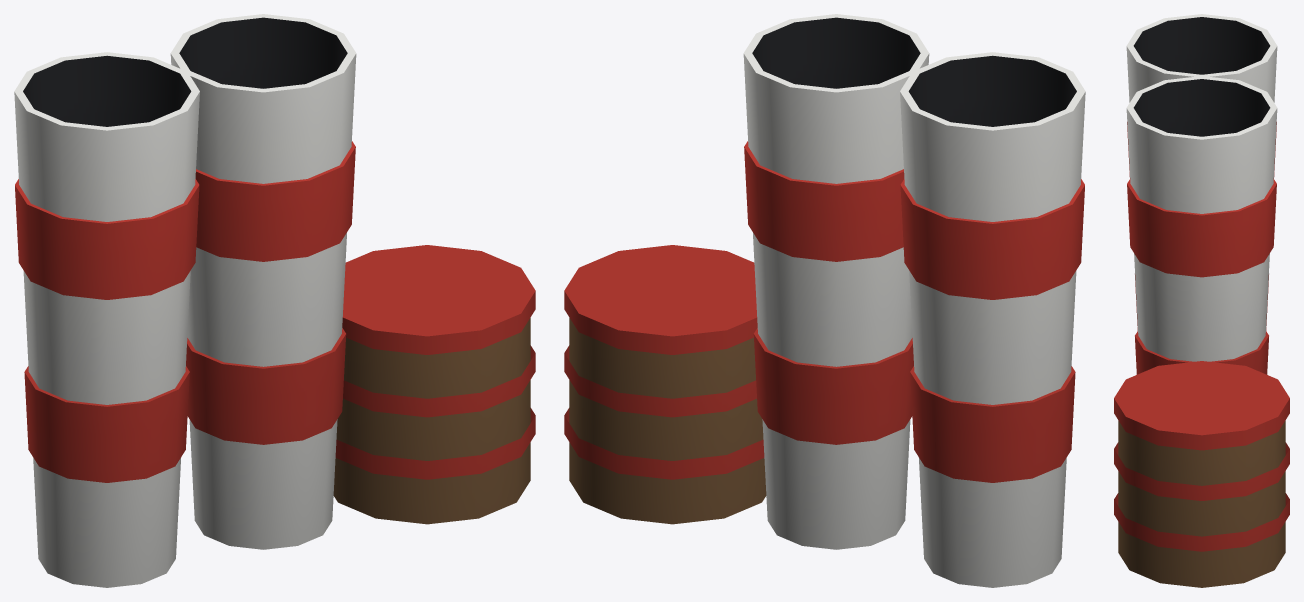
The model's file is SM_Cup_Paper_Stack_01.glb.
3 renders of one model, left to right at view 1: azimuth 30°, elevation 25°; view 2: azimuth 150°, elevation 25°; view 3: azimuth 270°, elevation 25°, orthographic. The views are drawn at different scales.
Parts seen in each view (by area): view 1: SM_Cup_Paper_Stack_01; view 2: SM_Cup_Paper_Stack_01; view 3: SM_Cup_Paper_Stack_01.
Part boxes in pixels (bbox=[...]): SM_Cup_Paper_Stack_01: bbox=[14, 14, 535, 587]; SM_Cup_Paper_Stack_01: bbox=[564, 14, 1085, 587]; SM_Cup_Paper_Stack_01: bbox=[1114, 14, 1289, 587].
Size of the model in its own units: 0.332 by 0.3 by 0.126.
Materials: 1 (1 with a texture image).
